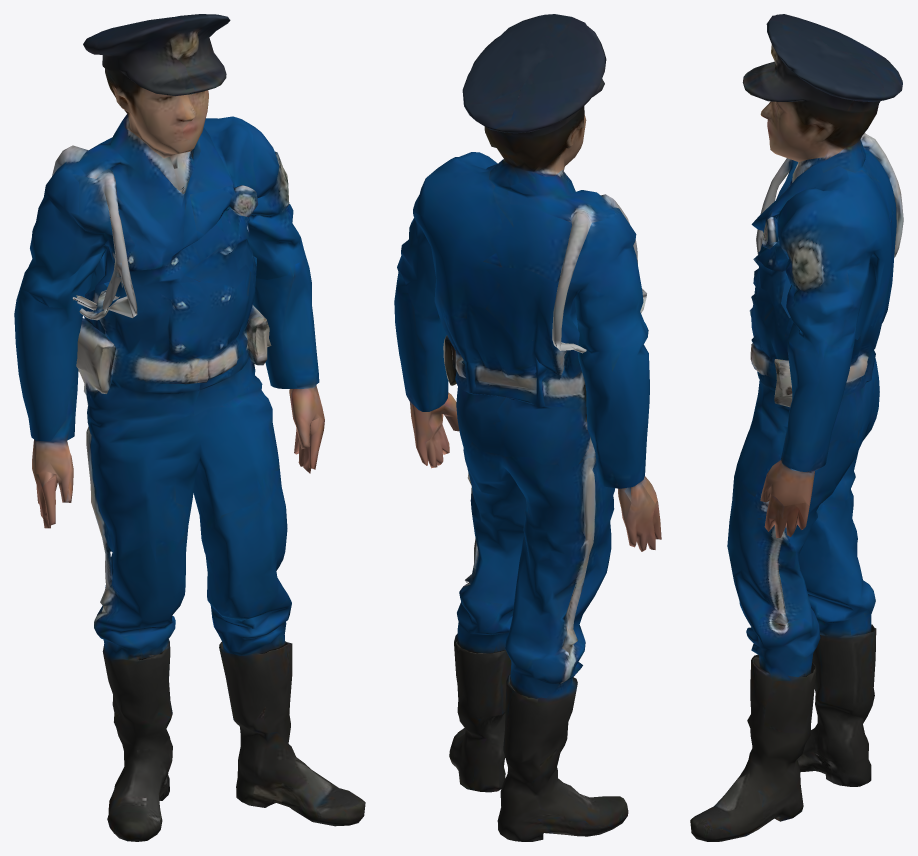
The model's file is polwan_jepang_idle.glb.
3 renders of one model, left to right at view 1: azimuth 30°, elevation 25°; view 2: azimuth 150°, elevation 25°; view 3: azimuth 270°, elevation 25°, orthographic. The views are drawn at different scales.
Visible parts, largest first — view 1: tripo_node_37ded99e-71b1-4b5f-b73d-52b77dd2bd4d; view 2: tripo_node_37ded99e-71b1-4b5f-b73d-52b77dd2bd4d; view 3: tripo_node_37ded99e-71b1-4b5f-b73d-52b77dd2bd4d.
Boxes of the visible parts, <box> form: tripo_node_37ded99e-71b1-4b5f-b73d-52b77dd2bd4d: <box>14,14,365,841</box>; tripo_node_37ded99e-71b1-4b5f-b73d-52b77dd2bd4d: <box>394,14,661,841</box>; tripo_node_37ded99e-71b1-4b5f-b73d-52b77dd2bd4d: <box>690,14,903,841</box>.
Size of the model in its own units: 35 by 100 by 25.56.
Materials: 1 (1 with a texture image).
